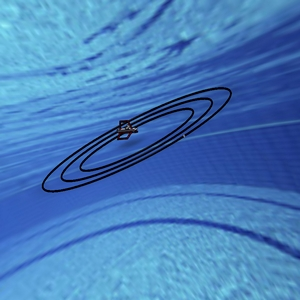circle: (22, 78, 252, 202)
submarine: (110, 117, 142, 145)
